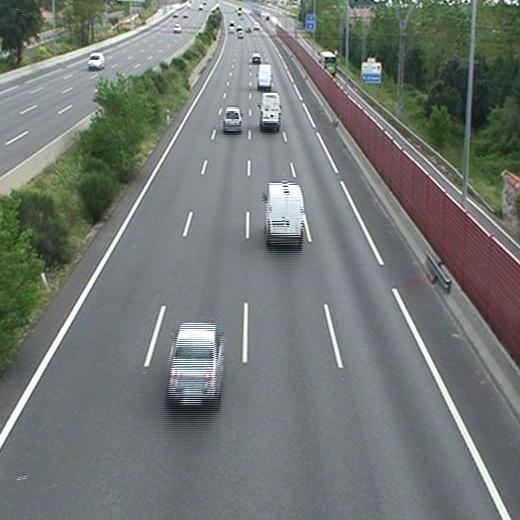car: (167, 324, 221, 403), (223, 108, 242, 132), (250, 53, 260, 63)
van: (264, 183, 304, 243), (261, 93, 282, 127), (258, 64, 271, 87)
